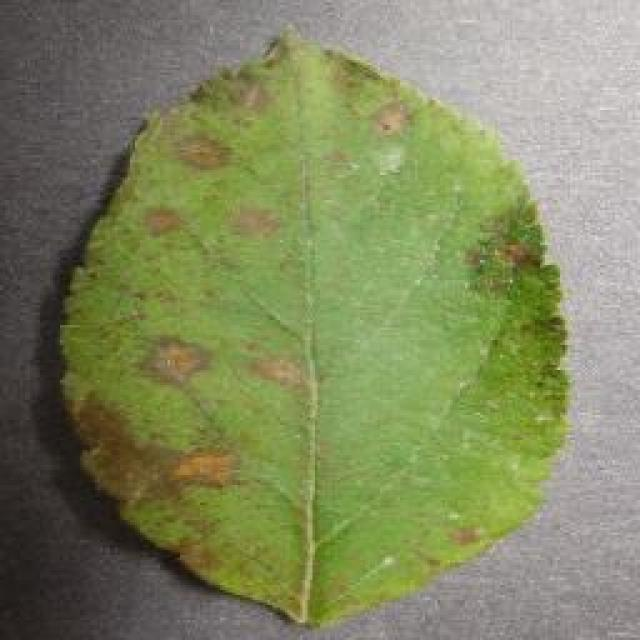apple rust disease: (52, 22, 572, 628)
